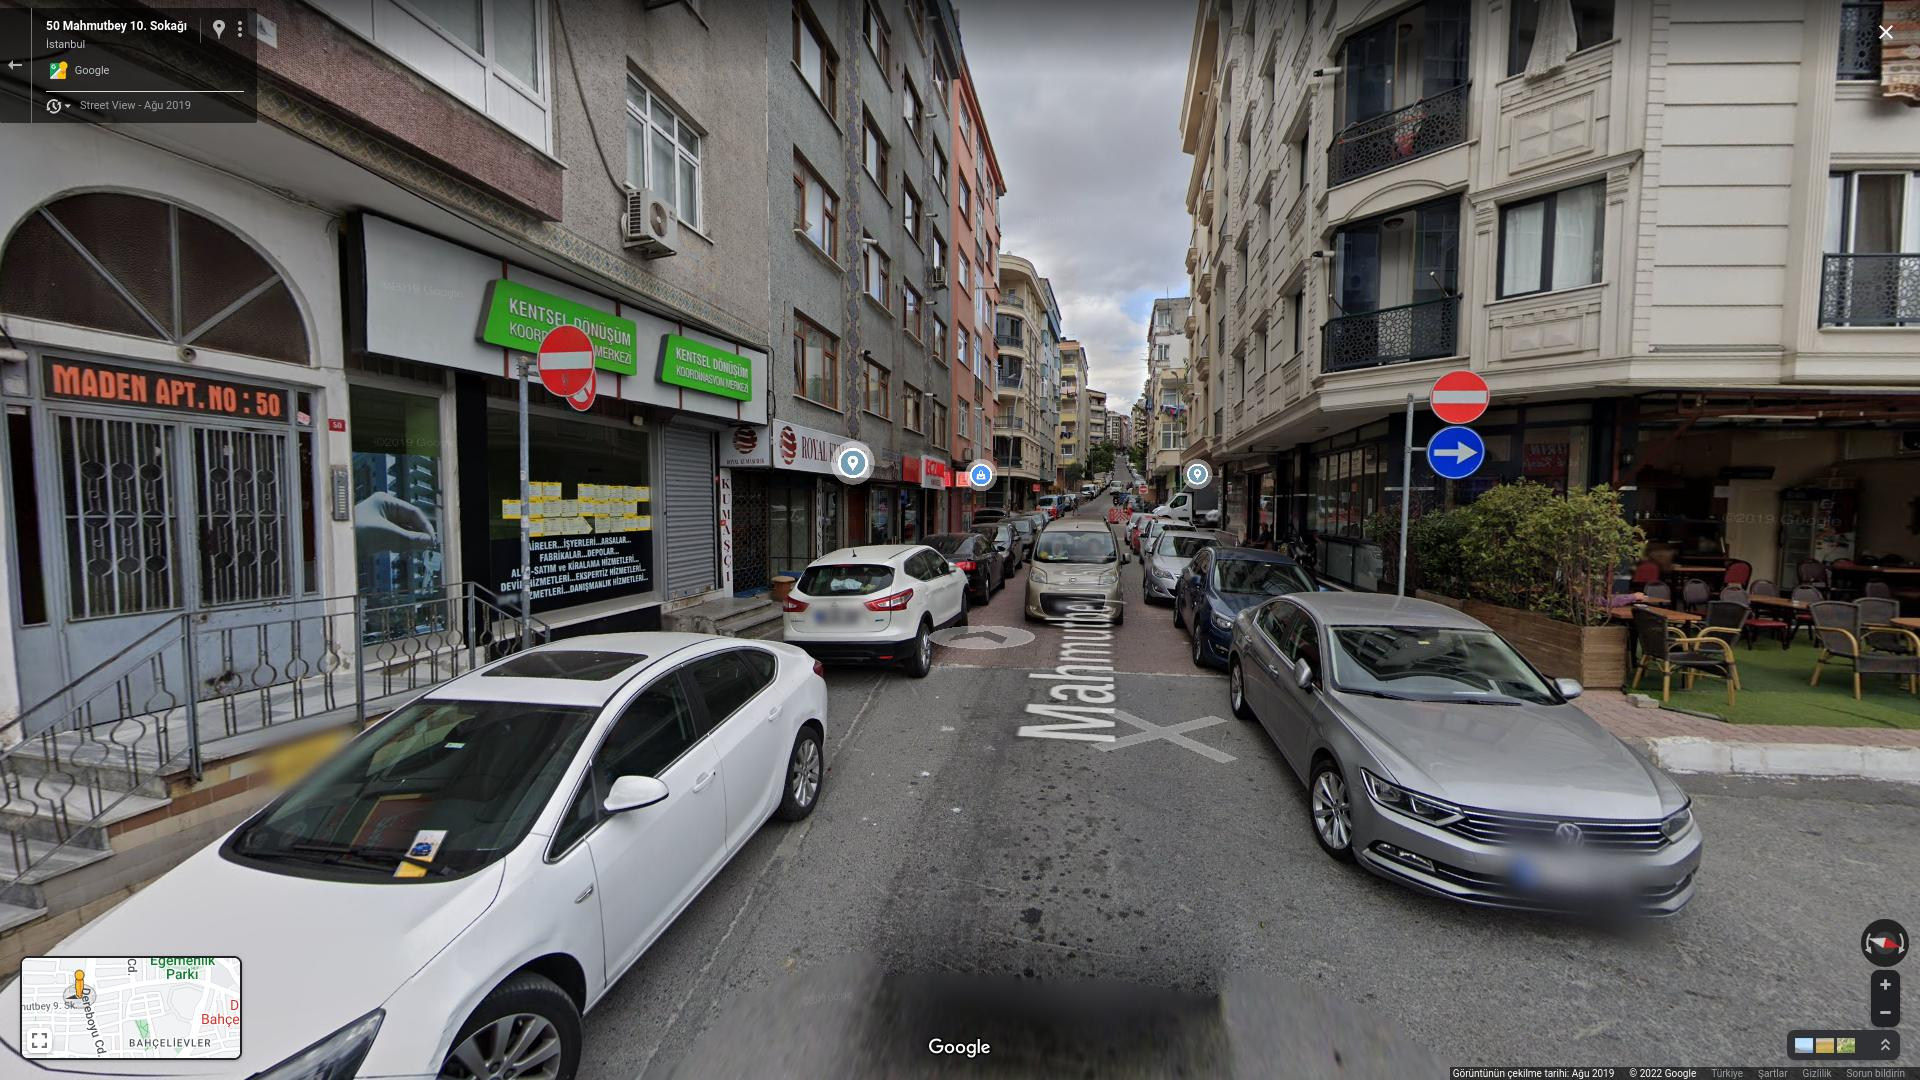turnright: (1428, 426, 1485, 480)
